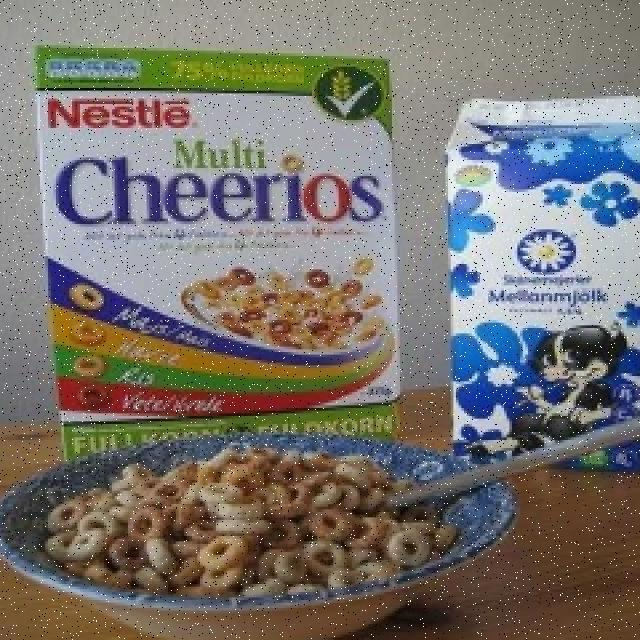box: (28, 34, 400, 458), (437, 101, 640, 472)
